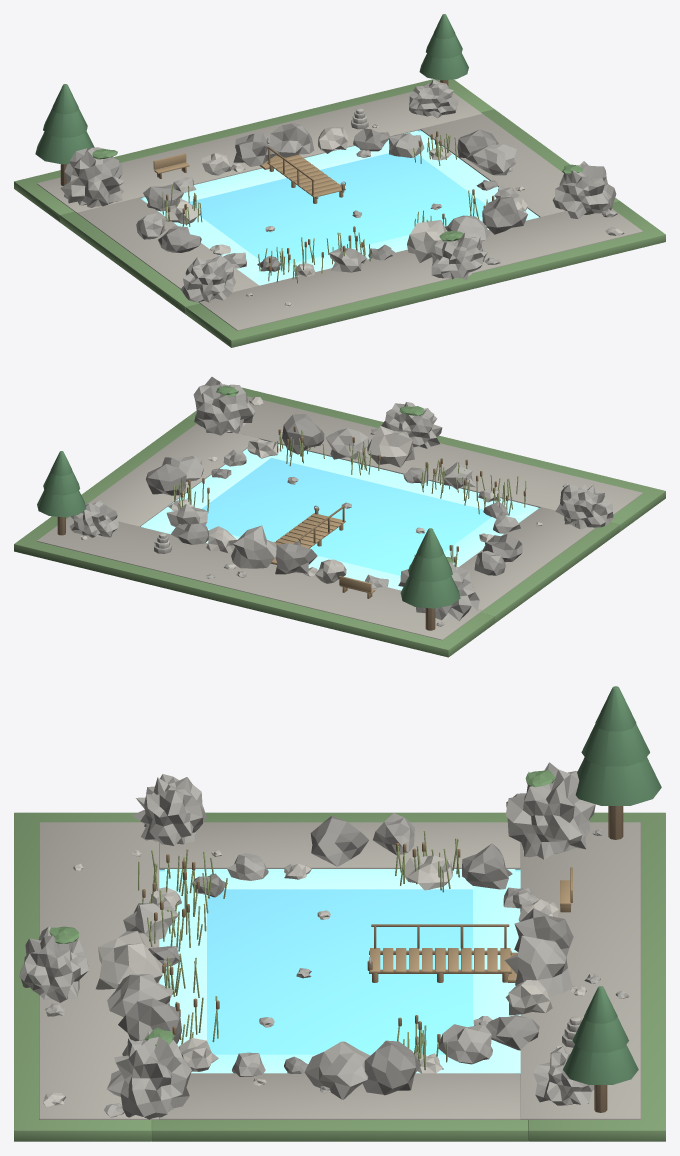
The model's file is th26_bergsee.glb.
The picture shows the model from 3 angles, top to bottom: view 1: azimuth 30°, elevation 25°; view 2: azimuth 150°, elevation 25°; view 3: azimuth 270°, elevation 25°; orthographic projection. The views are drawn at different scales.
Visible parts, largest first — view 1: Cube.010, Cube.004, Cube, Cube.005, Cube.007, Cube.006, Cube.001, Felskoerper, Cube.002, Cube.012, Felskoerper.001, Felskoerper.002 (+27 smaller); view 2: Cube.010, Cube.005, Cube.004, Cube.001, Cube.007, Cube.006, Cube, Cube.011, Cube.002, Felskoerper.001, Cube.014, Felskoerper.002 (+26 smaller); view 3: Cube.010, Cube.004, Cube.005, Cube.007, Cube.001, Cube, Cube.006, Cube.003, Felskoerper, Cube.012, Felskoerper.001, Cube.011 (+29 smaller).
Part boxes in pixels (<box>): Cube.010: <box>189,153,485,265</box>; Cube.004: <box>198,208,642,330</box>; Cube: <box>185,201,665,347</box>; Cube.005: <box>37,92,482,212</box>; Cube.007: <box>420,114,564,217</box>; Cube.006: <box>77,197,259,291</box>; Cube.001: <box>14,79,493,222</box>; Felskoerper: <box>60,147,124,207</box>; Cube.002: <box>60,211,199,314</box>; Cube.012: <box>142,130,431,201</box>; Felskoerper.001: <box>552,161,616,218</box>; Felskoerper.002: <box>180,255,235,302</box>; Cube.010: <box>202,458,491,575</box>; Cube.005: <box>37,516,482,640</box>; Cube.004: <box>238,396,642,514</box>; Cube.001: <box>14,516,494,657</box>; Cube.007: <box>88,424,259,526</box>; Cube.006: <box>459,507,595,610</box>; Cube: <box>186,387,665,531</box>; Cube.011: <box>248,441,537,518</box>; Cube.002: <box>480,522,619,623</box>; Felskoerper.001: <box>193,377,255,435</box>; Cube.014: <box>141,446,284,532</box>; Felskoerper.002: <box>555,484,613,529</box>; Cube.010: <box>207,889,472,1054</box>; Cube.004: <box>39,822,159,1119</box>; Cube.005: <box>520,822,640,1119</box>; Cube.007: <box>159,1073,520,1119</box>; Cube.001: <box>528,812,665,1141</box>; Cube: <box>14,812,151,1141</box>; Cube.006: <box>159,822,520,869</box>; Cube.003: <box>152,1120,527,1141</box>; Felskoerper: <box>505,762,595,859</box>; Cube.012: <box>473,871,520,1072</box>; Felskoerper.001: <box>107,1031,191,1119</box>; Cube.011: <box>159,871,206,1072</box>.
Bounding box in the file's own units: 30 × 7.12 × 26.
